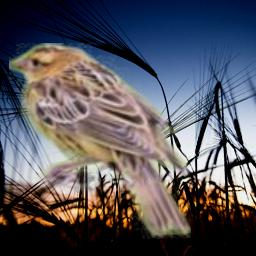Sparrow: (9, 43, 191, 239)
